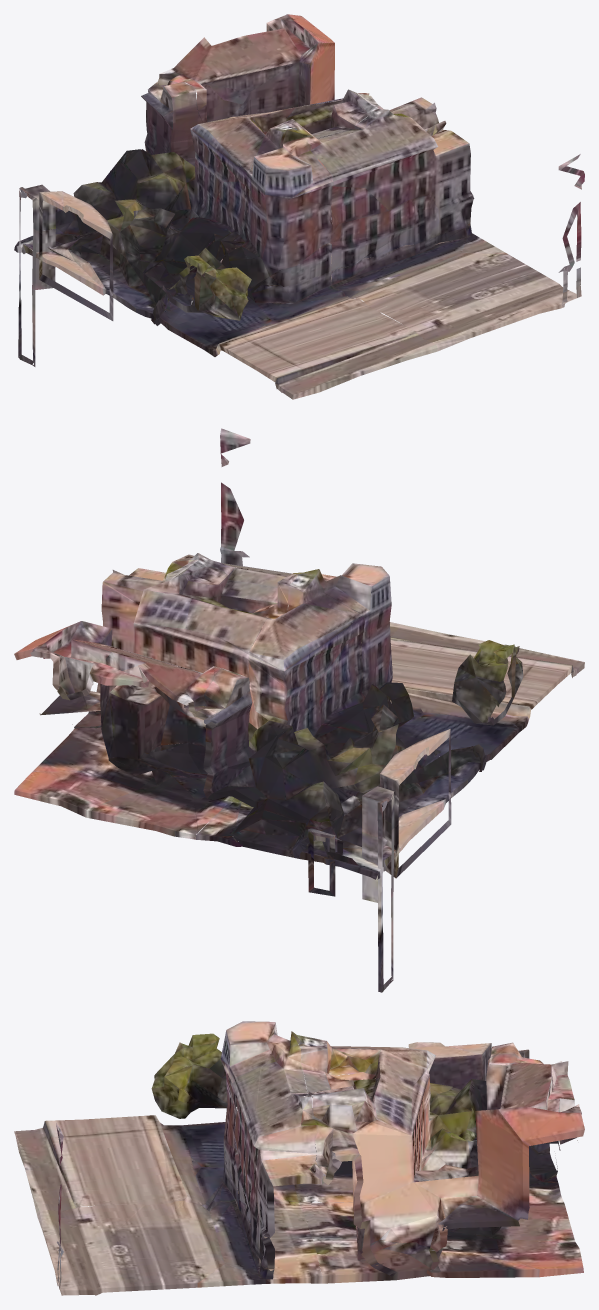
The picture shows the model from 3 angles, top to bottom: view 1: azimuth 30°, elevation 25°; view 2: azimuth 150°, elevation 25°; view 3: azimuth 270°, elevation 25°; orthographic projection. The views are drawn at different scales.
Visible parts, largest first — view 1: Mesh_0; view 2: Mesh_0; view 3: Mesh_0.
Part boxes in pixels (x1=…): Mesh_0: x1=14, y1=14, x2=584, y2=399; Mesh_0: x1=14, y1=428, x2=584, y2=992; Mesh_0: x1=14, y1=1021, x2=584, y2=1295.
Size of the model in its own units: 67.44 by 48.82 by 82.7.
1 material, 1 textured.
